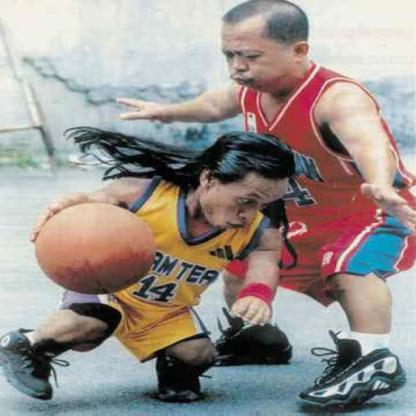basketball: (31, 200, 154, 294)
